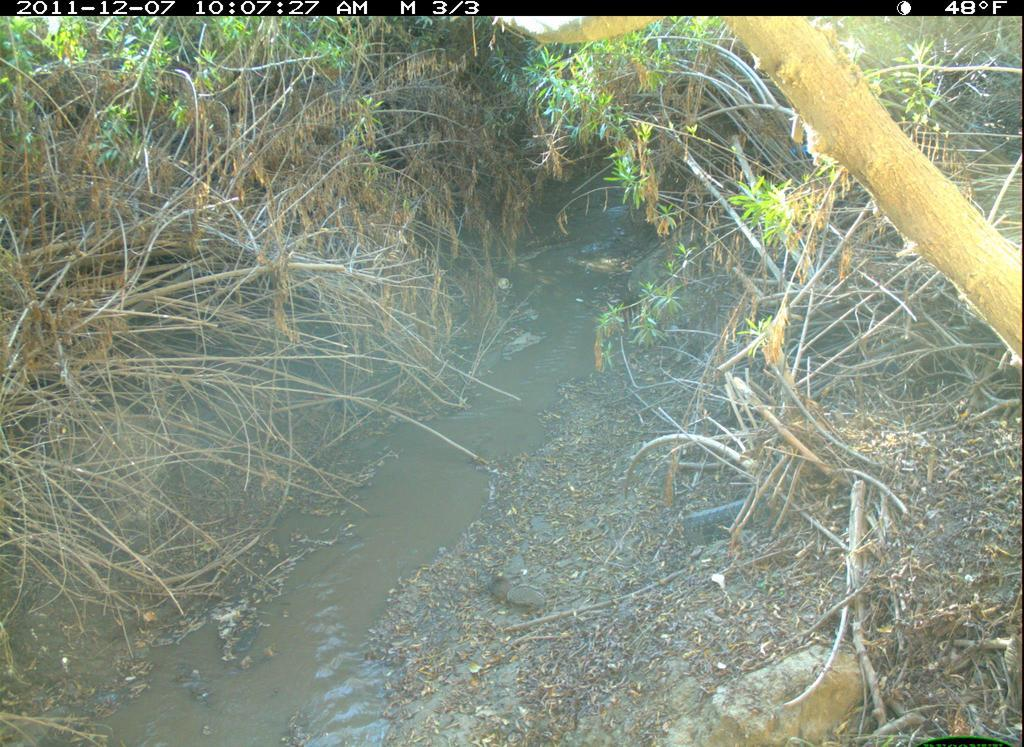squirrel: (483, 571, 548, 619)
